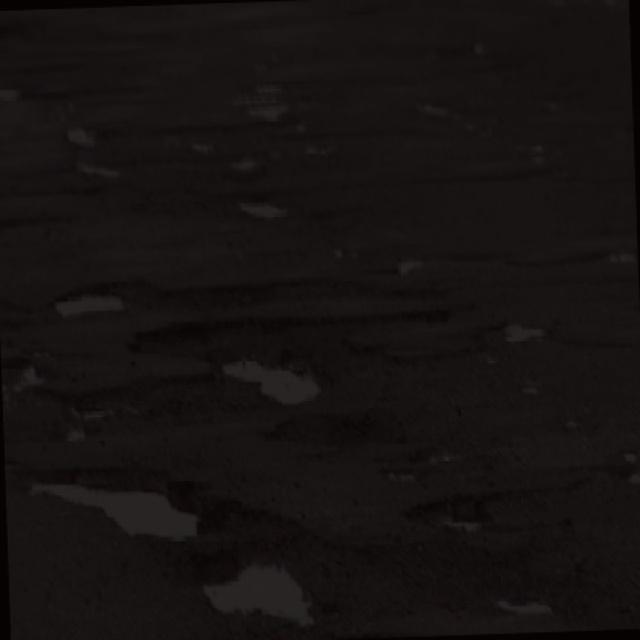Pothole: (22, 451, 237, 550), (130, 319, 347, 412), (194, 557, 336, 635), (48, 281, 281, 324), (392, 486, 506, 534), (62, 111, 129, 177), (215, 179, 288, 236), (411, 94, 487, 140), (238, 78, 302, 128), (534, 239, 640, 269), (0, 353, 58, 406), (372, 306, 463, 330), (495, 311, 559, 344), (365, 251, 421, 283), (159, 124, 209, 158), (211, 146, 272, 171), (0, 80, 30, 106)
